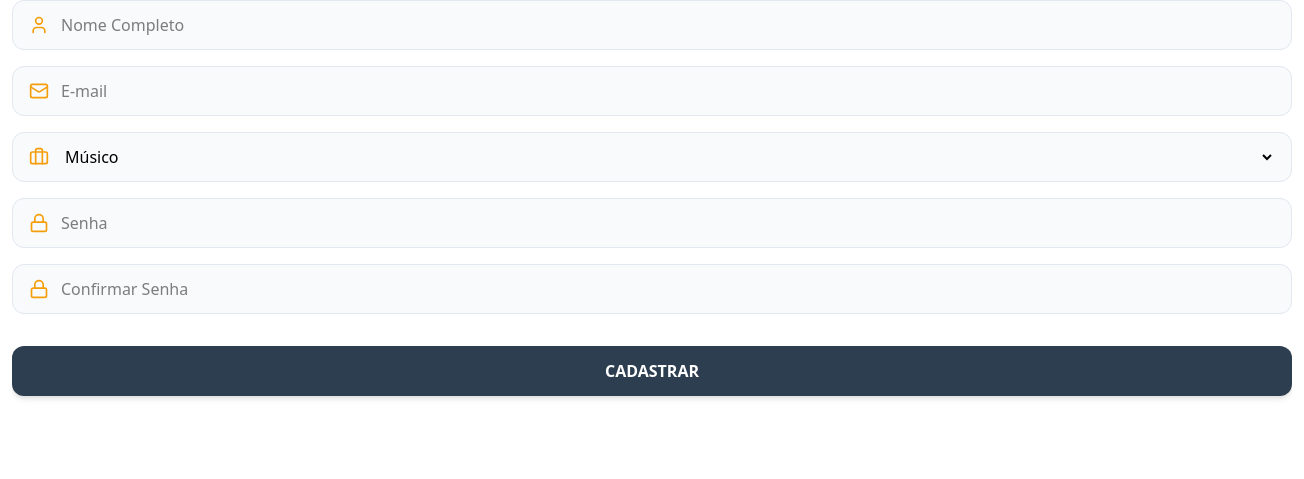
Test: Register Integration › Casos Negativos › deve exibir erro na UI se o Supabase Auth retornar erro de e-mail em uso
Type "Lucas David" into the field with placeholder "Nome Completo".
click(668, 25); type("Lucas David")  # box x1=61 y1=13 x2=1275 y2=37
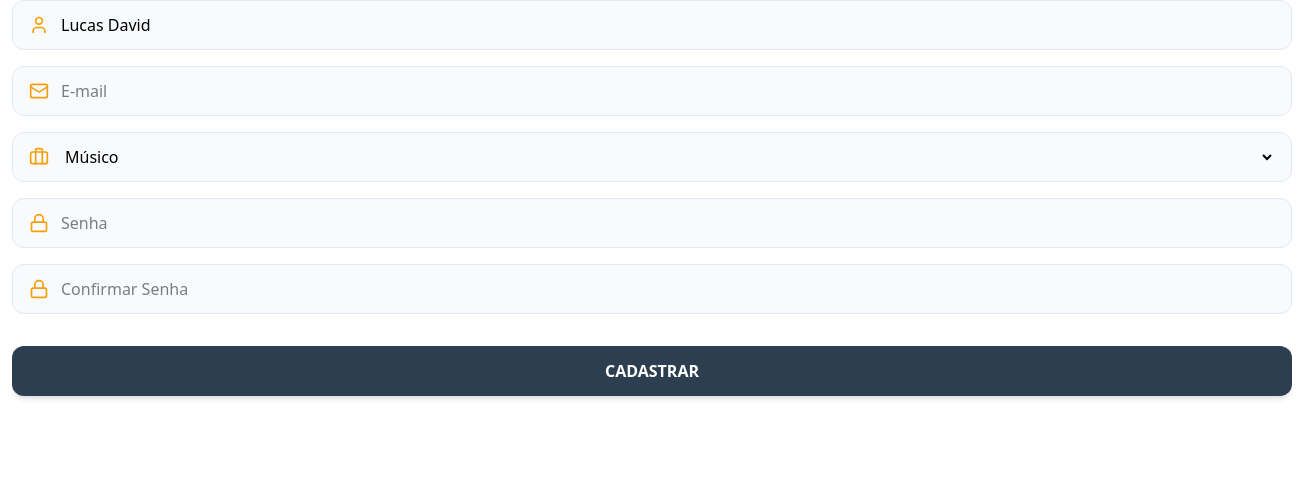
Type "existente@myroadie.br" into the field with placeholder "E-mail".
click(668, 91); type("existente@myroadie.br")  # box x1=61 y1=79 x2=1275 y2=103
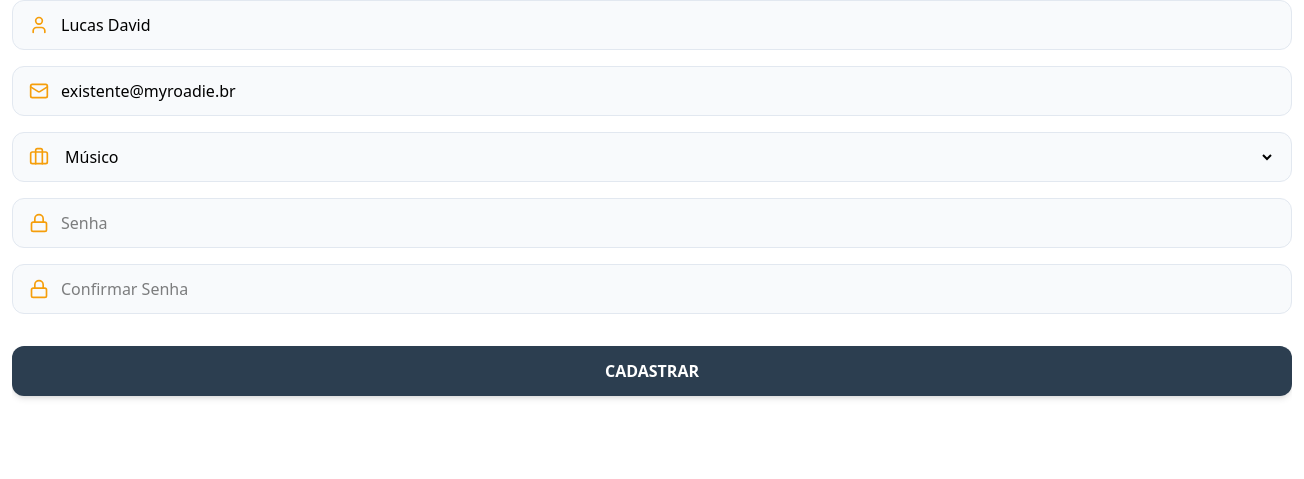
Type "123456" into the password field with placeholder "Senha".
click(668, 223); type("123456")  # box x1=61 y1=211 x2=1275 y2=235
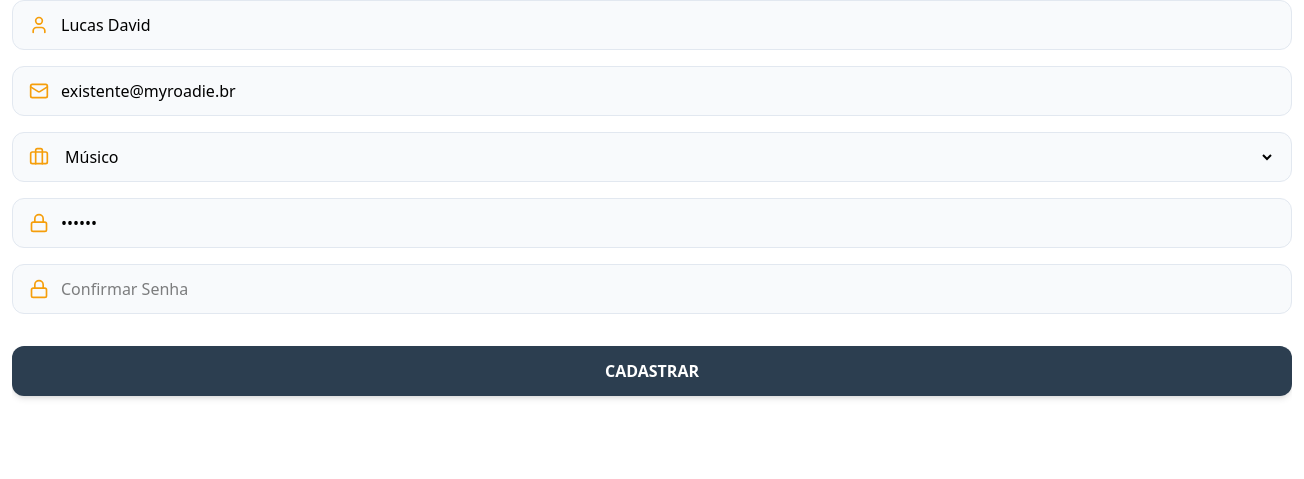
Type "123456" into the password field with placeholder "Confirmar Senha".
click(668, 289); type("123456")  # box x1=61 y1=277 x2=1275 y2=301
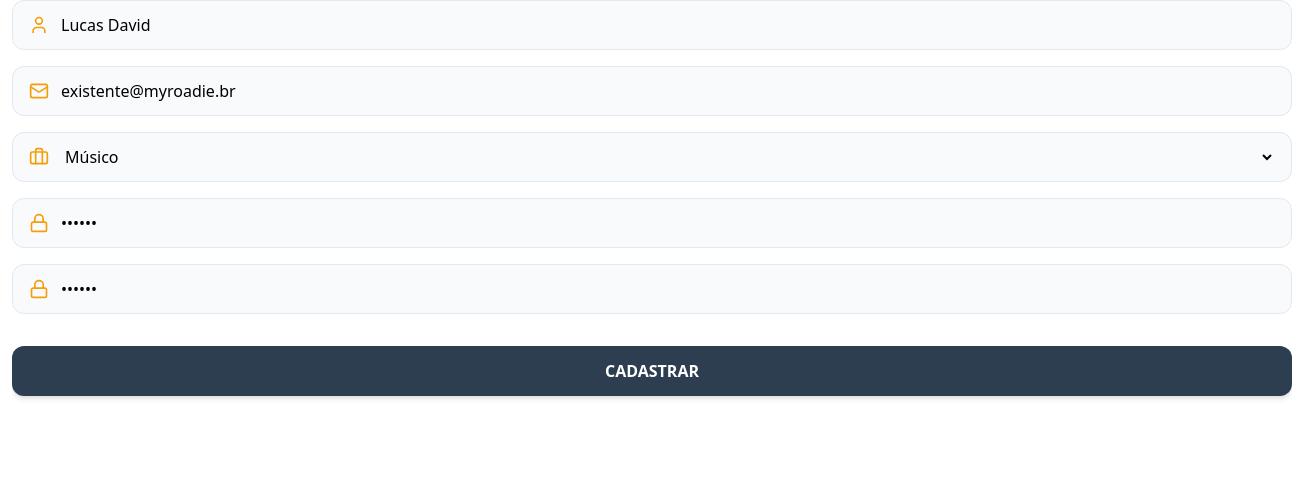
Click the button "CADASTRAR".
click(652, 371)  # box x1=12 y1=346 x2=1292 y2=396
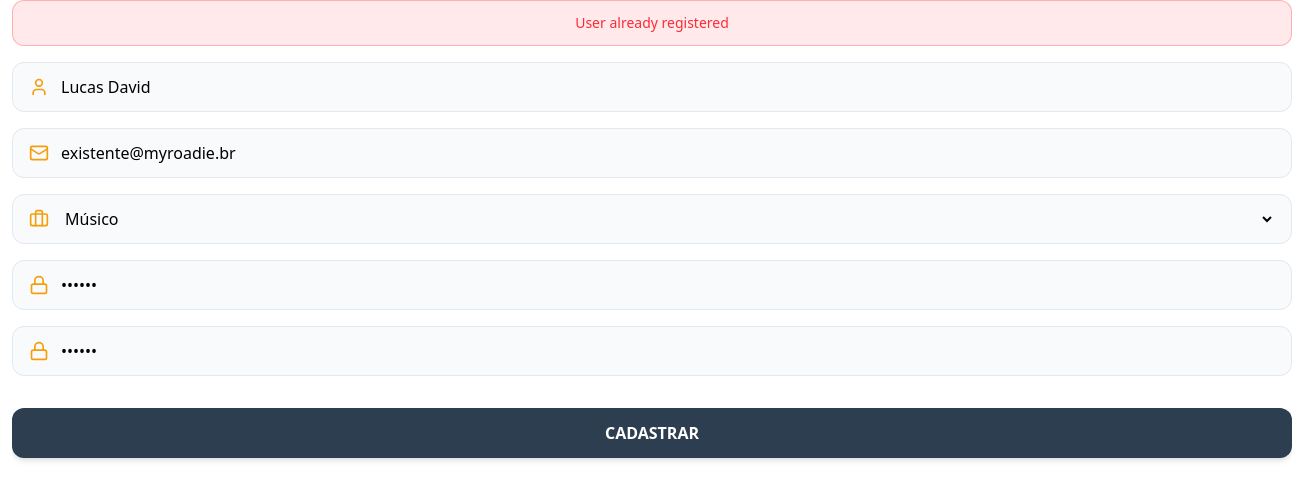
Now the message reads "User already registered", box x1=575 y1=13 x2=729 y2=32
